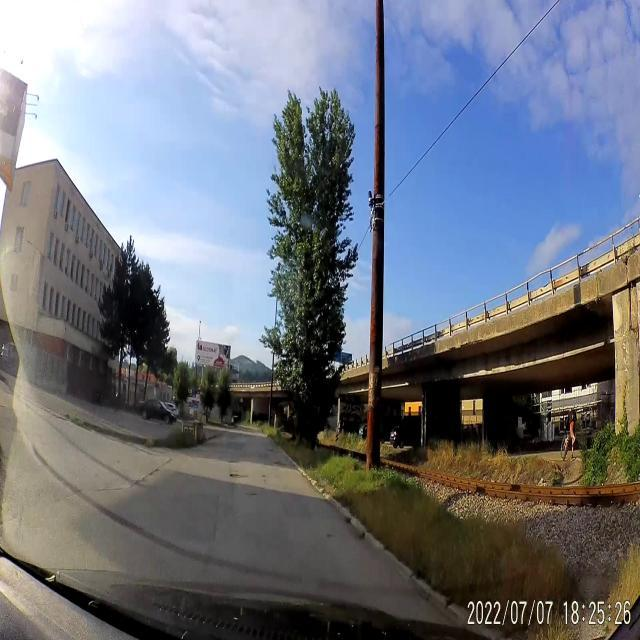Pothole: (230, 472, 248, 479), (274, 460, 287, 467), (150, 467, 162, 474), (265, 446, 274, 454), (326, 532, 334, 540), (227, 460, 239, 464), (134, 479, 140, 486), (250, 492, 258, 497), (358, 534, 366, 539), (141, 476, 147, 482), (346, 520, 351, 524), (262, 474, 266, 478), (78, 488, 81, 492), (264, 479, 266, 482)
